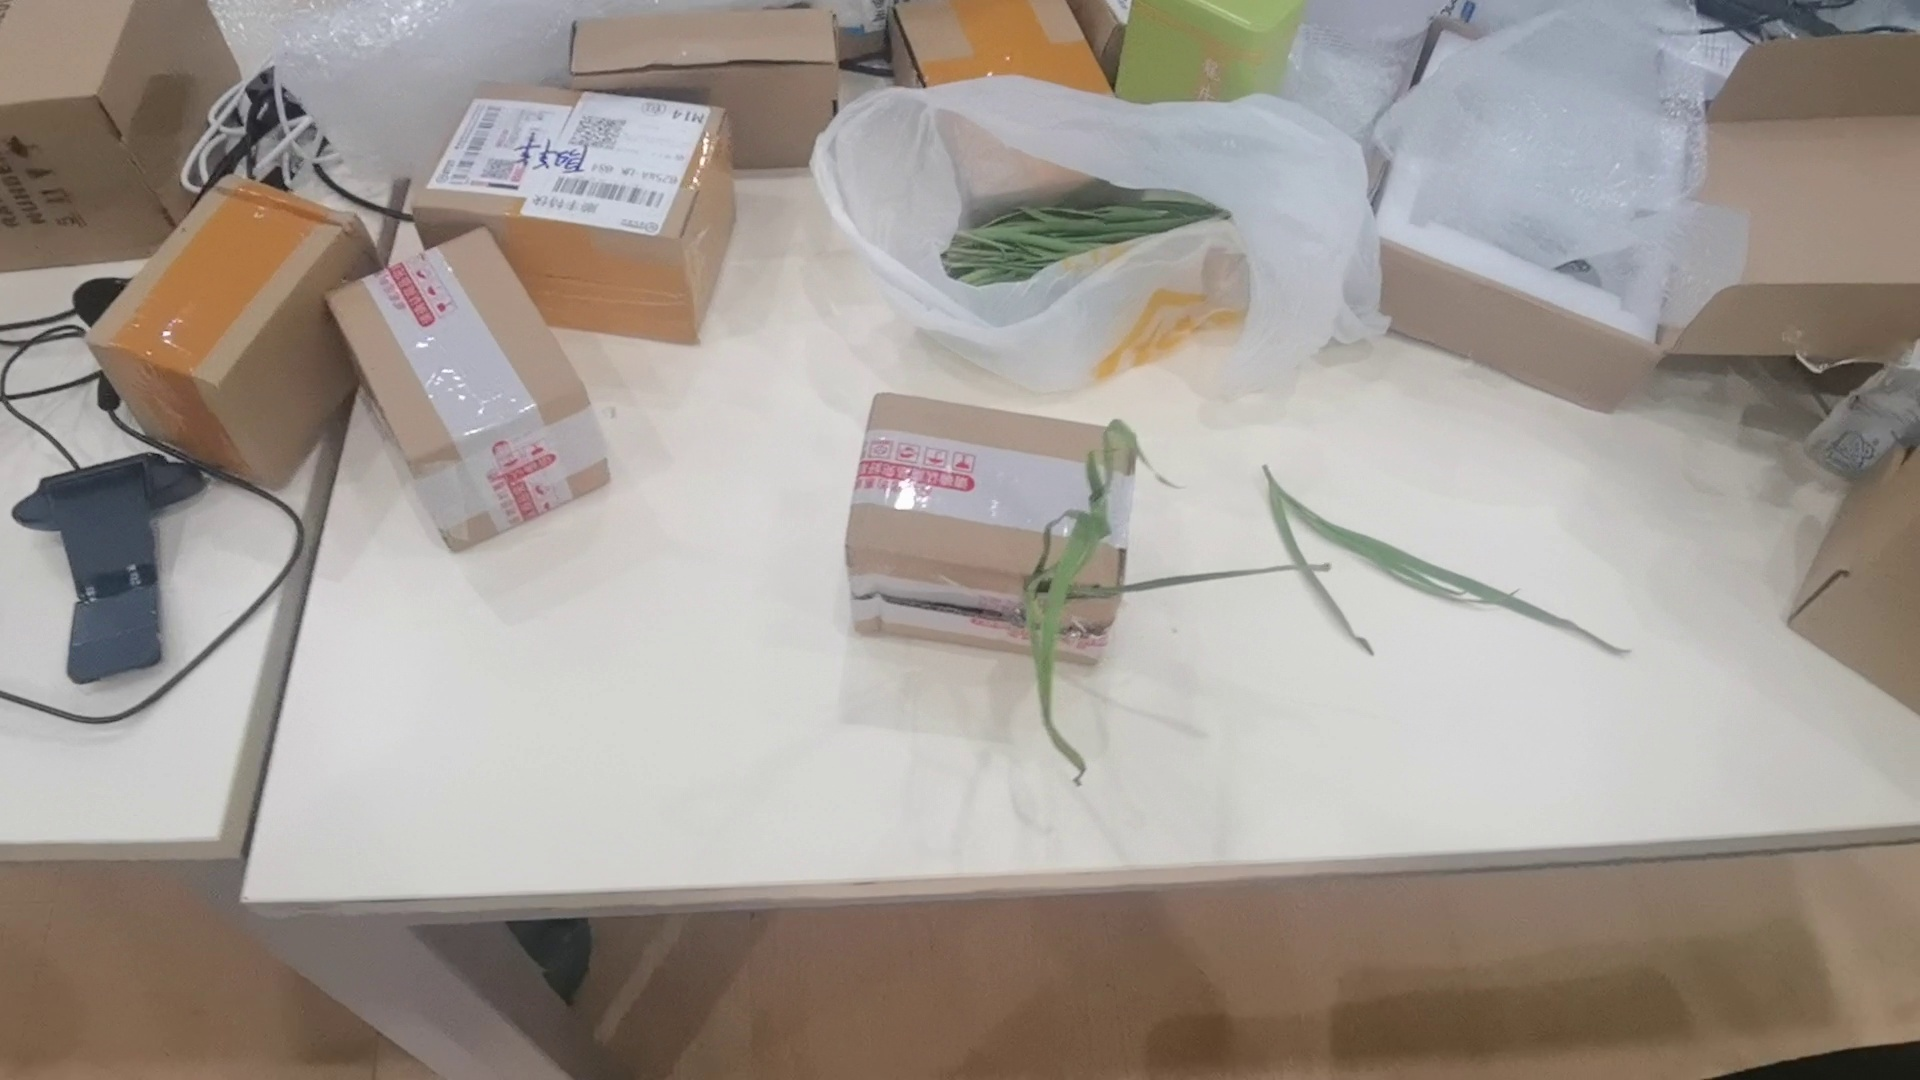chives: (972, 407, 1362, 781), (1240, 448, 1647, 665)
